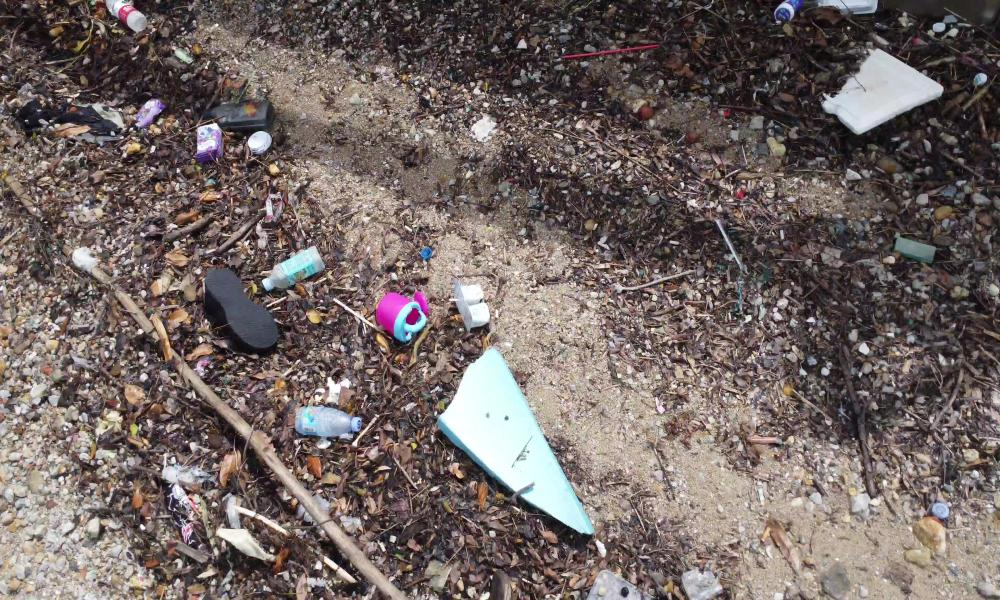carton: (186, 119, 224, 159), (133, 91, 169, 123)
plastic bottle: (284, 388, 372, 436), (261, 244, 334, 291), (99, 0, 149, 39), (752, 0, 799, 22)
